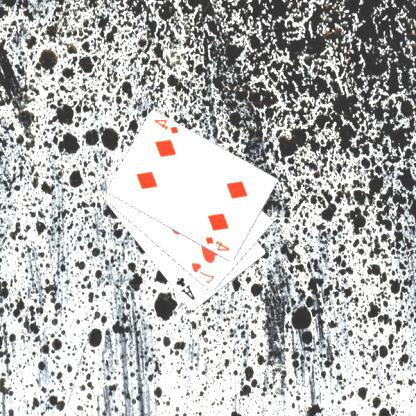4D: (204, 234, 233, 253), (154, 117, 182, 135)
7H: (190, 260, 218, 286)
AC: (174, 274, 198, 302)
